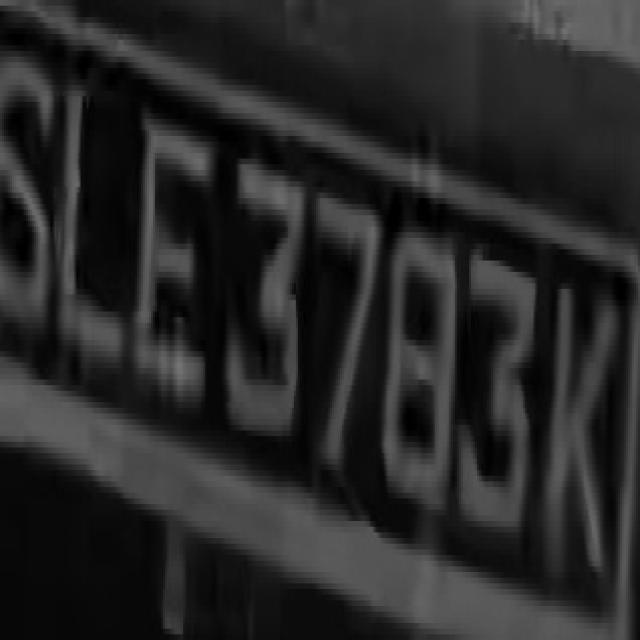3: (455, 227, 541, 555), (233, 130, 306, 464)
7: (310, 147, 382, 498)
8: (376, 181, 453, 527)
E: (133, 108, 215, 419)
K: (545, 243, 618, 578)
L: (52, 62, 117, 391)
S: (6, 40, 48, 368)
